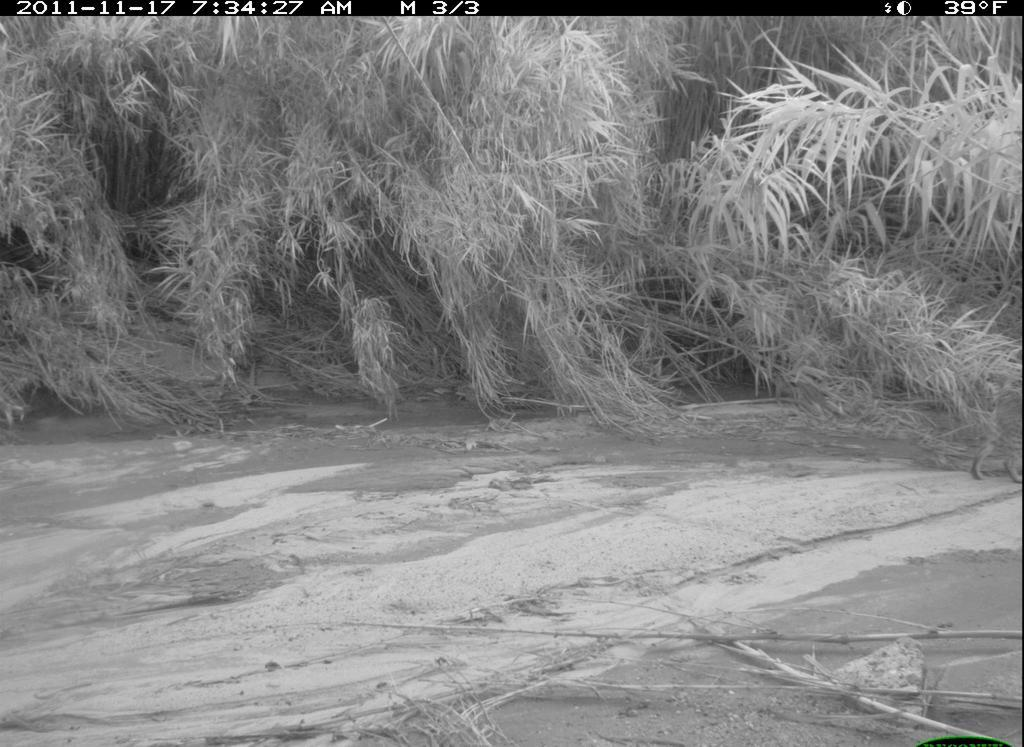bobcat: (968, 385, 1022, 481)
